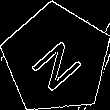N_NE: (25, 28, 88, 91)
